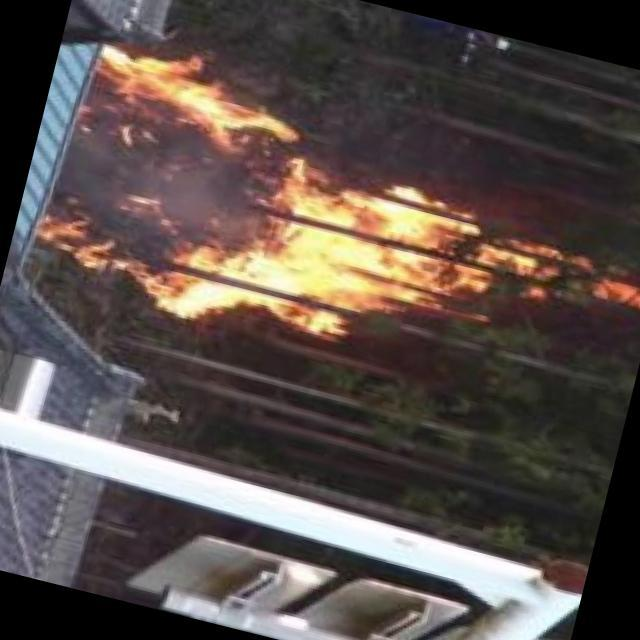Fire: (31, 41, 634, 410)
